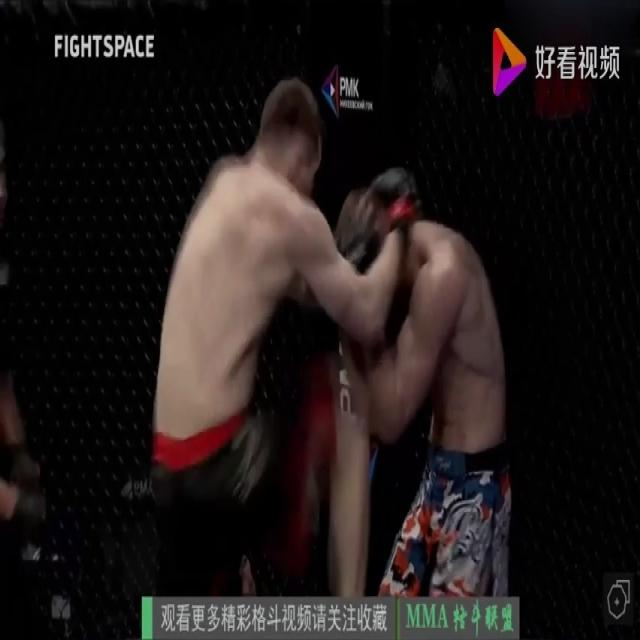fight: (154, 67, 514, 633)
